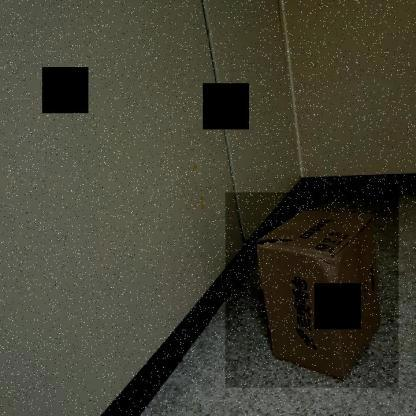-: (225, 192, 399, 388)
